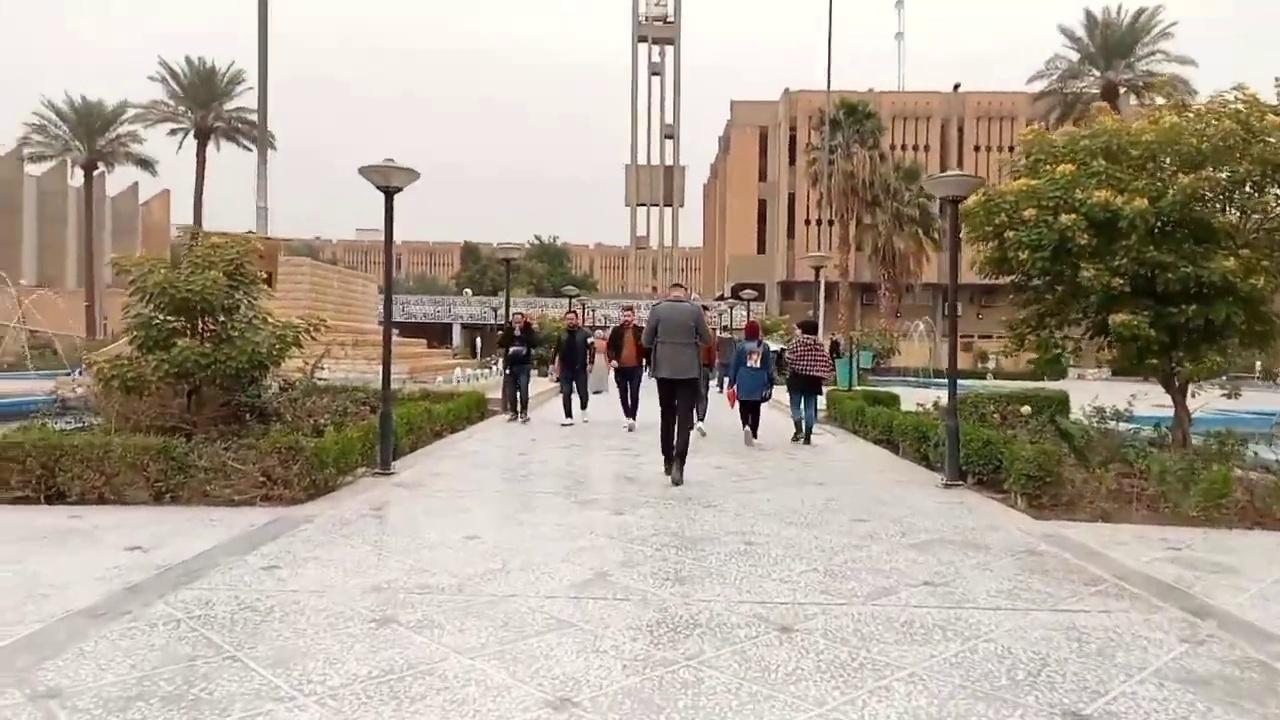fountain: (853, 314, 1278, 475), (432, 355, 502, 386)
person: (641, 282, 714, 485), (784, 318, 836, 444), (727, 319, 775, 446), (604, 305, 649, 431), (550, 310, 596, 425), (496, 311, 537, 422), (691, 304, 716, 437), (714, 324, 736, 393), (828, 331, 841, 360)
tree: (956, 77, 1279, 452), (1023, 1, 1200, 379), (80, 227, 331, 438), (801, 94, 942, 384), (16, 89, 158, 339), (122, 53, 277, 228), (1024, 1, 1199, 128), (854, 157, 942, 317), (509, 233, 599, 298), (448, 239, 505, 295), (754, 311, 791, 342)
